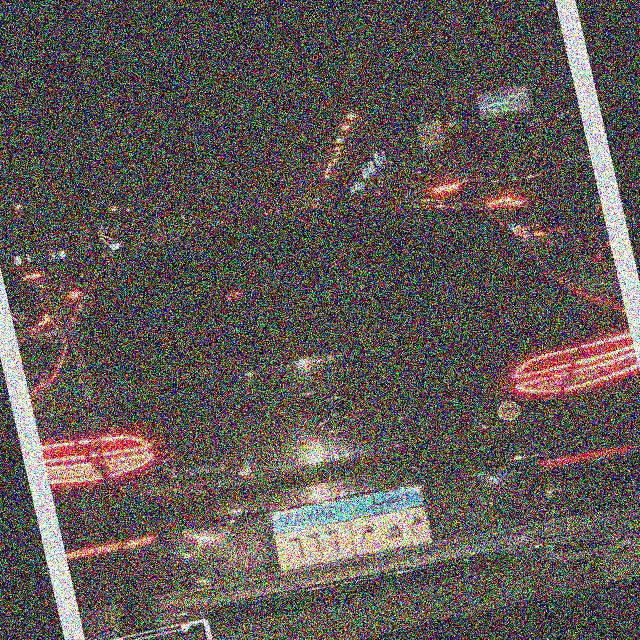License Plate: (263, 474, 437, 579)
